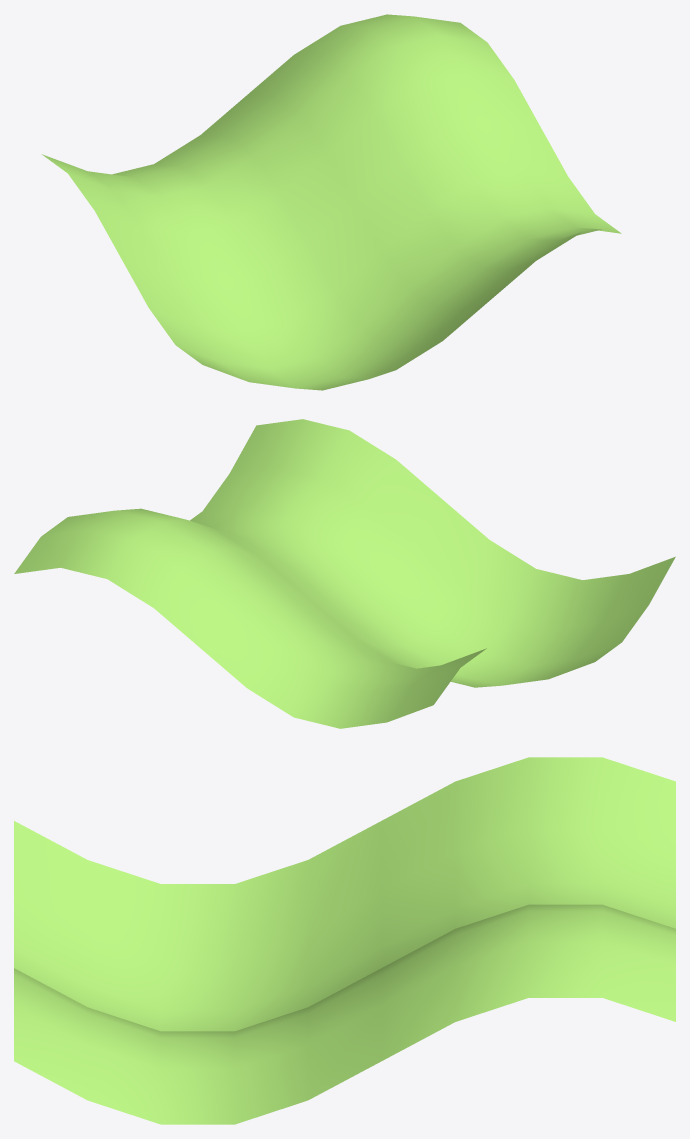
The model's file is Elements_MeshElement.glb.
3 renders of one model, top to bottom at view 1: azimuth 30°, elevation 25°; view 2: azimuth 150°, elevation 25°; view 3: azimuth 270°, elevation 25°, orthographic. The views are drawn at different scales.
Parts seen in each view (by area): view 1: 58986e86-6ad6-4e84-b4cb-3468c3e17243_mesh; view 2: 58986e86-6ad6-4e84-b4cb-3468c3e17243_mesh; view 3: 58986e86-6ad6-4e84-b4cb-3468c3e17243_mesh.
Boxes of the visible parts, <box> form: 58986e86-6ad6-4e84-b4cb-3468c3e17243_mesh: <box>41,14,621,390</box>; 58986e86-6ad6-4e84-b4cb-3468c3e17243_mesh: <box>14,419,675,728</box>; 58986e86-6ad6-4e84-b4cb-3468c3e17243_mesh: <box>14,757,675,1124</box>.
Size of the model in its own units: 9 by 3.8 by 9.
